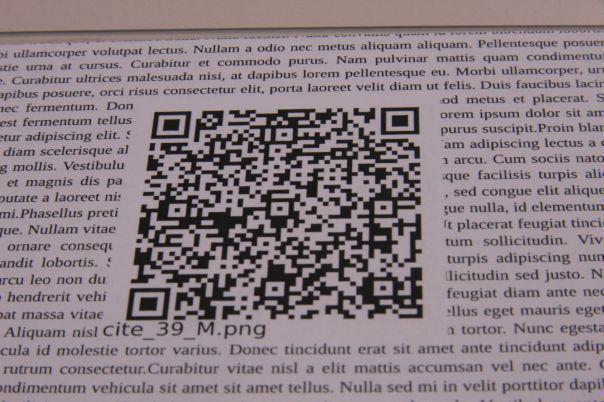qr_code: (126, 107, 423, 321)
